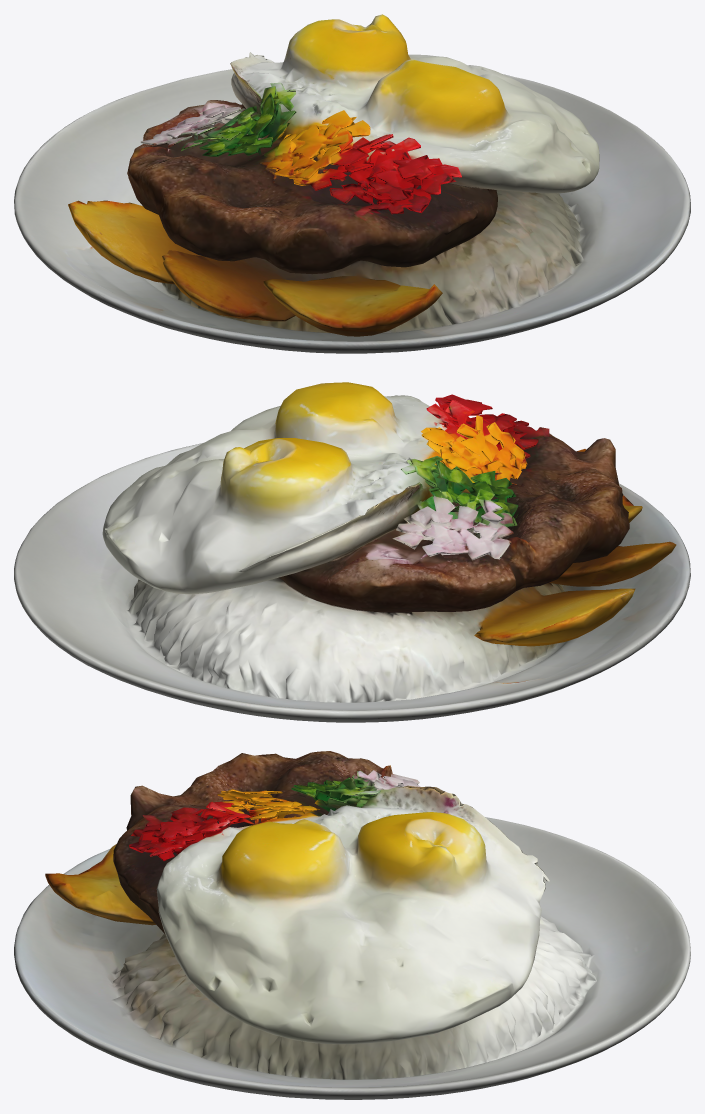
Rendered from SilpanchoModel.glb.
3 renders of one model, top to bottom at view 1: azimuth 30°, elevation 25°; view 2: azimuth 150°, elevation 25°; view 3: azimuth 270°, elevation 25°, orthographic.
Visible parts, largest first — view 1: tripo_node_eabae000-a143-4f36-bc80-f8c3f496cac2; view 2: tripo_node_eabae000-a143-4f36-bc80-f8c3f496cac2; view 3: tripo_node_eabae000-a143-4f36-bc80-f8c3f496cac2.
Part boxes in pixels (left/top/right/bottom): tripo_node_eabae000-a143-4f36-bc80-f8c3f496cac2: left=14, top=14, right=690, bottom=353; tripo_node_eabae000-a143-4f36-bc80-f8c3f496cac2: left=14, top=382, right=690, bottom=722; tripo_node_eabae000-a143-4f36-bc80-f8c3f496cac2: left=14, top=751, right=690, bottom=1099.
Bounding box in the file's own units: 0.9792 × 0.3306 × 0.9809.
1 material, 1 textured.
